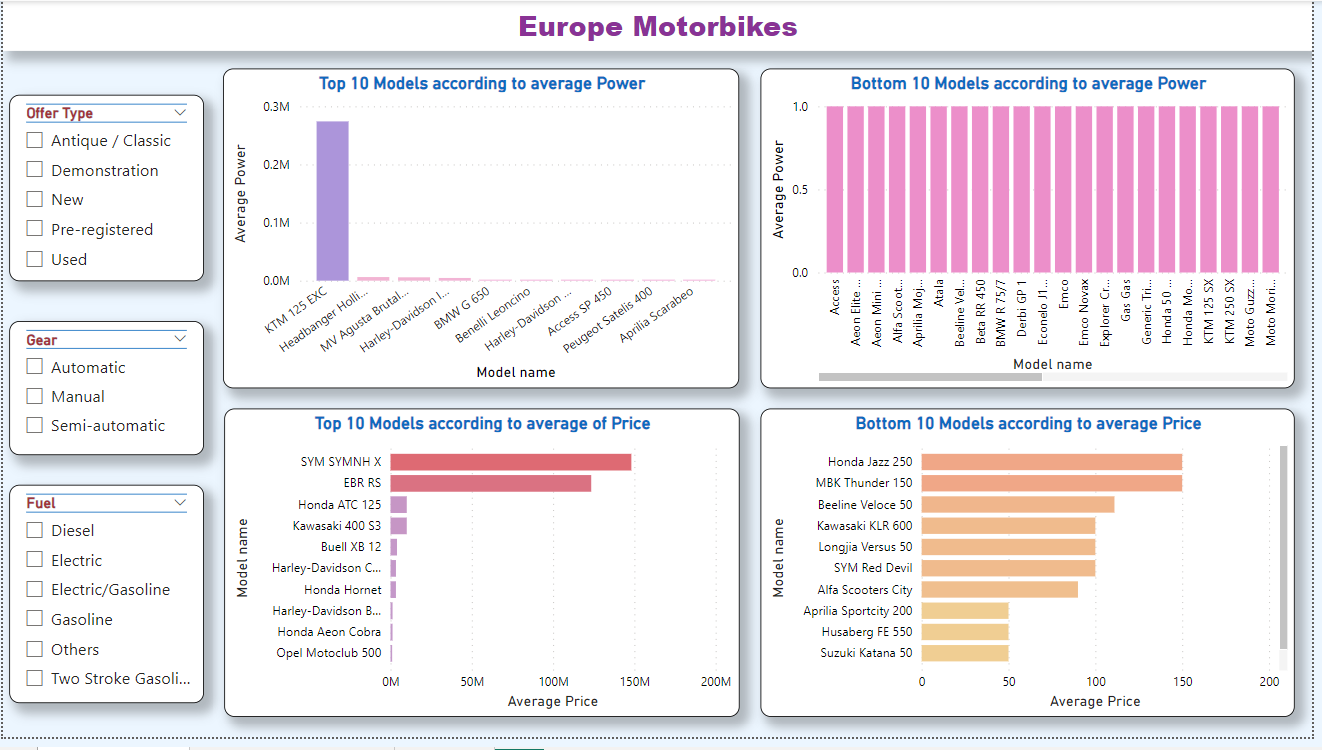

Layout of this report page (visuals, bound fields, positions):
{"tool":"powerbi","page":{"name":"Power & Prices","canvas":[1280,720],"ordinal":0},"visuals":[{"type":"textbox","box":[0,0,1281.1,48.9],"z":0},{"type":"columnChart","title":"Top 10 Models according to average Power","fields":{"Y":["Avg(europe-motorbikes-zenrows.power)"],"Category":["europe-motorbikes-zenrows.make_model"]},"box":[215,66.2,505,312.5],"z":1000},{"type":"columnChart","title":"Bottom 10 Models according to average Power","fields":{"Y":["Avg(europe-motorbikes-zenrows.power)"],"Category":["europe-motorbikes-zenrows.make_model"]},"box":[741.2,66.2,522.5,312.5],"z":2000},{"type":"barChart","title":"Top 10 Models according to average of Price","fields":{"Category":["europe-motorbikes-zenrows.make_model"],"Y":["Avg(europe-motorbikes-zenrows.price)"]},"box":[216.2,398.8,503.8,301.2],"z":3000},{"type":"barChart","title":"Bottom 10 Models according to average Price","fields":{"Category":["europe-motorbikes-zenrows.make_model"],"Y":["Avg(europe-motorbikes-zenrows.price)"]},"box":[741.2,398.8,522.5,301.2],"z":4000},{"type":"slicer","fields":{"Values":["europe-motorbikes-zenrows.gear"]},"box":[6.2,312.5,190,131.2],"z":5000},{"type":"slicer","fields":{"Values":["europe-motorbikes-zenrows.fuel"]},"box":[6.2,472.5,190,213.8],"z":6000},{"type":"slicer","fields":{"Values":["europe-motorbikes-zenrows.offer_type"]},"box":[6.2,91.2,190,182.5],"z":7000}]}

Visuals, with their boxes in screenshot pixels (x1, y1, x2, y2), scaled from the page's 1280x720 canvas onto the 1322x750 screenshot:
textbox: rect(0, 0, 1321, 51)
"Top 10 Models according to average Power" columnChart: rect(222, 69, 744, 394)
"Bottom 10 Models according to average Power" columnChart: rect(766, 69, 1305, 394)
"Top 10 Models according to average of Price" barChart: rect(223, 415, 744, 729)
"Bottom 10 Models according to average Price" barChart: rect(766, 415, 1305, 729)
slicer - europe-motorbikes-zenrows.gear: rect(6, 326, 203, 462)
slicer - europe-motorbikes-zenrows.fuel: rect(6, 492, 203, 715)
slicer - europe-motorbikes-zenrows.offer_type: rect(6, 95, 203, 285)
